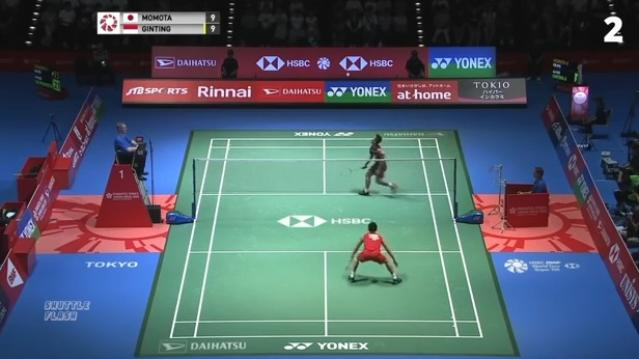Shuttlecock: (344, 72, 354, 80)
